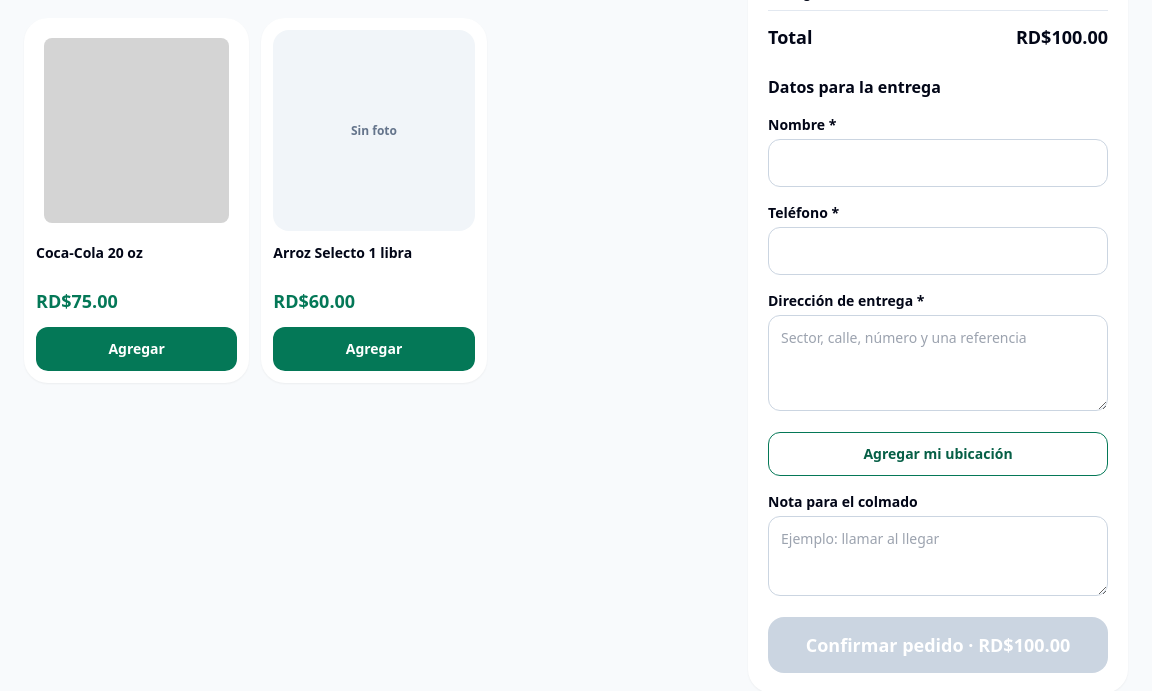
Test: PublicStorefrontPage › requires customer information before sending an order
The width and height of the screenshot is (1152, 691).
(page scrolled)
Click the button "Agregar" below "RD$75.00". click: (137, 349)
box: x1=36 y1=327 x2=237 y2=371
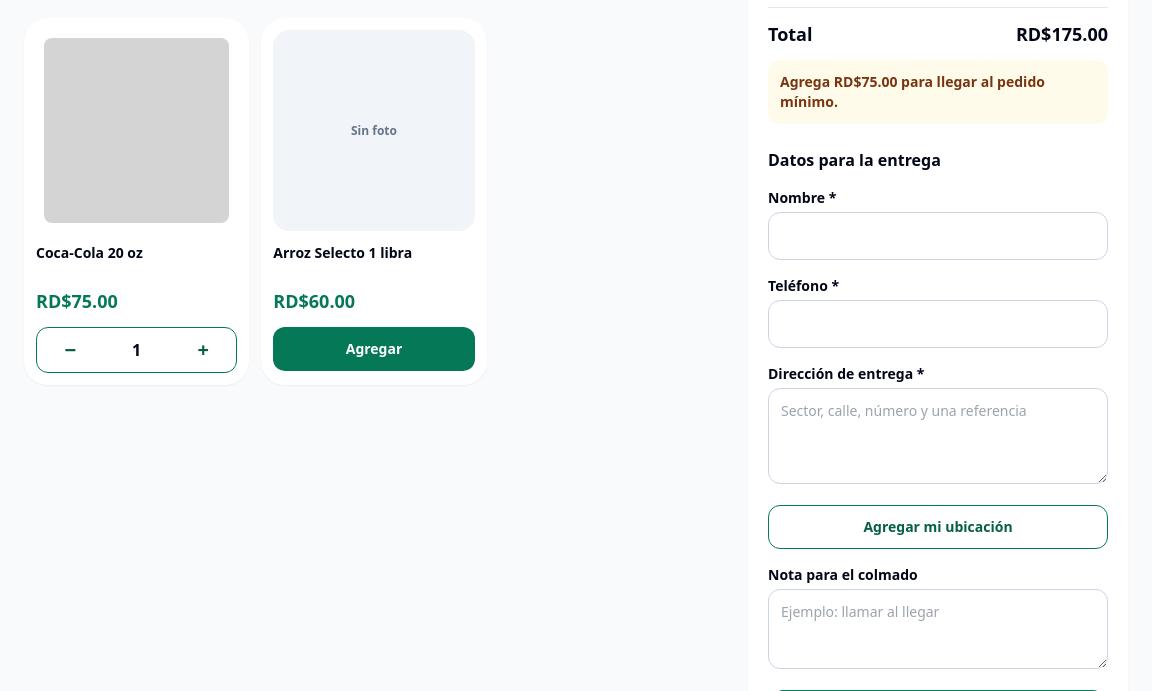
Click the button named "Agregar Coca-Cola 20 oz". click: (203, 350)
box: x1=170 y1=328 x2=236 y2=372
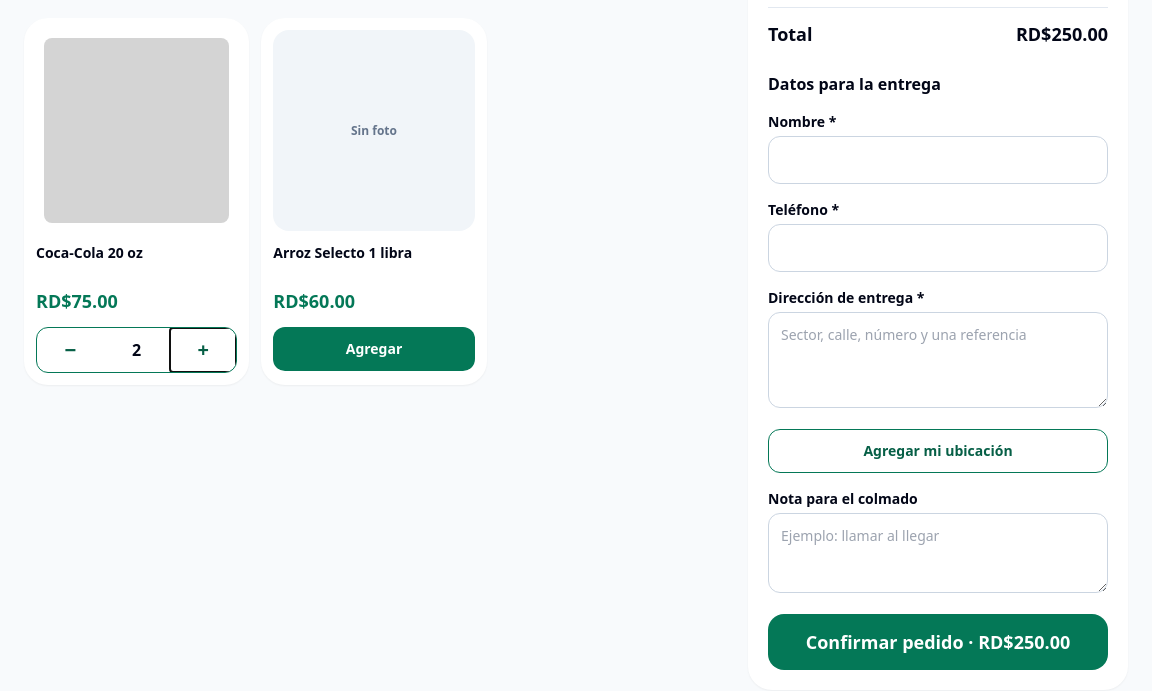
Click the button "Confirmar pedido · RD$250.00". click: (938, 642)
box: x1=768 y1=614 x2=1108 y2=670
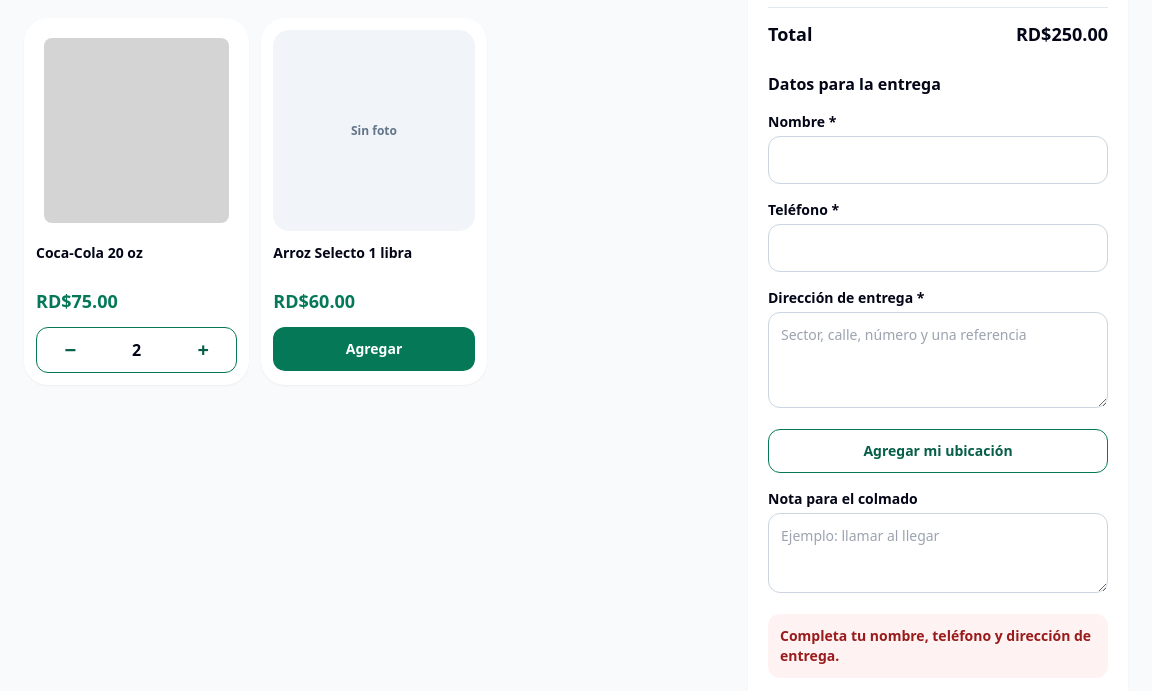
Expected: the message reads "Completa tu nombre, teléfono y dirección de entrega.", x1=780 y1=626 x2=1091 y2=665
